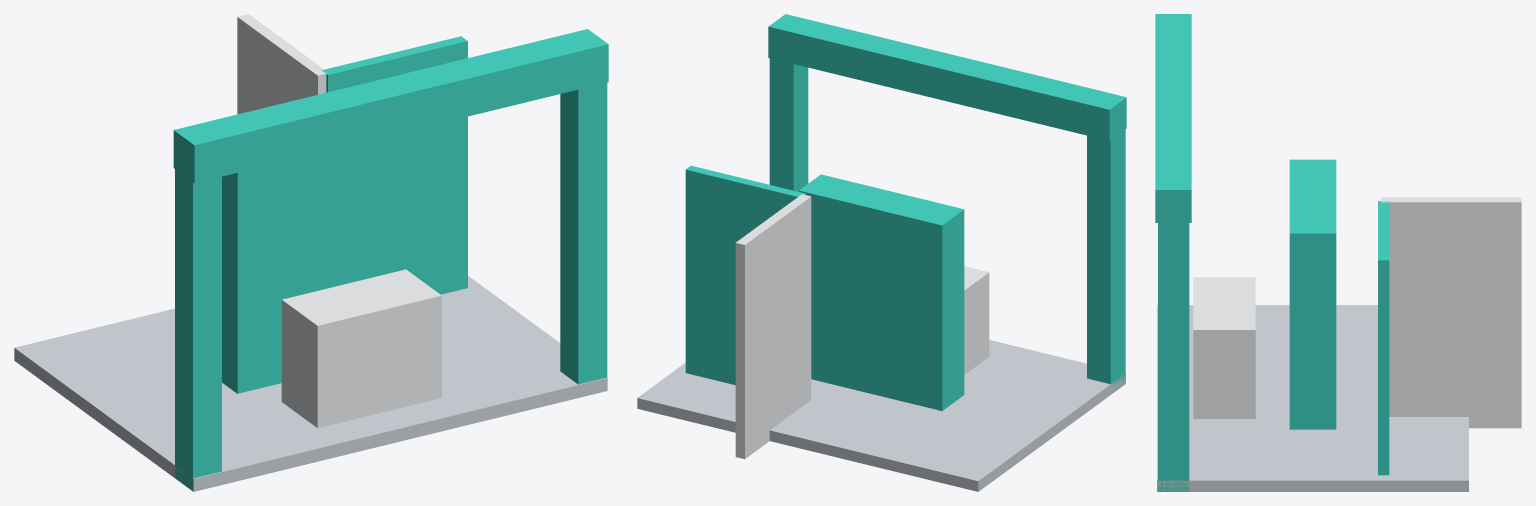
The picture shows the model from 3 angles, left to right: view 1: azimuth 30°, elevation 25°; view 2: azimuth 150°, elevation 25°; view 3: azimuth 270°, elevation 25°; orthographic projection. The views are drawn at different scales.
Parts seen in each view (by area): view 1: Exhibition Booth Concept; view 2: Exhibition Booth Concept; view 3: Exhibition Booth Concept.
Boxes of the visible parts, x1,y1,x2,y2 form: Exhibition Booth Concept: (14,14,608,491); Exhibition Booth Concept: (637,14,1126,491); Exhibition Booth Concept: (1155,14,1521,491).
Size of the model in its own units: 4 by 3.2 by 3.52.
